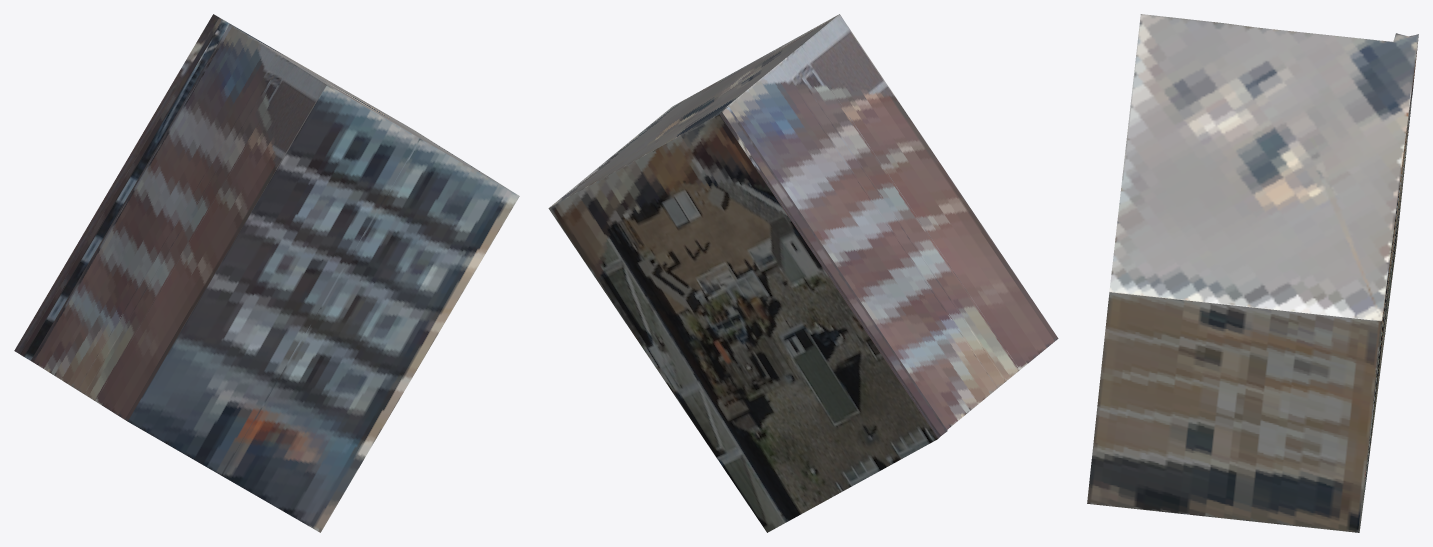
3 views of the same model, side by side, from view 1: azimuth 30°, elevation 25°; view 2: azimuth 150°, elevation 25°; view 3: azimuth 270°, elevation 25° (orthographic). The views are drawn at different scales.
Parts seen in each view (by area): view 1: BAG_0599100000656929 (×4); view 2: BAG_0599100000656929 (×3); view 3: BAG_0599100000656929 (×2).
Boxes of the visible parts, x1,y1,x2,y2 form: BAG_0599100000656929 (×4): [14, 14, 519, 532]; BAG_0599100000656929 (×3): [548, 14, 1058, 532]; BAG_0599100000656929 (×2): [1087, 14, 1418, 532].
Size of the model in its own units: 19.37 by 20.72 by 11.75.
Materials: 4 (4 with a texture image).
